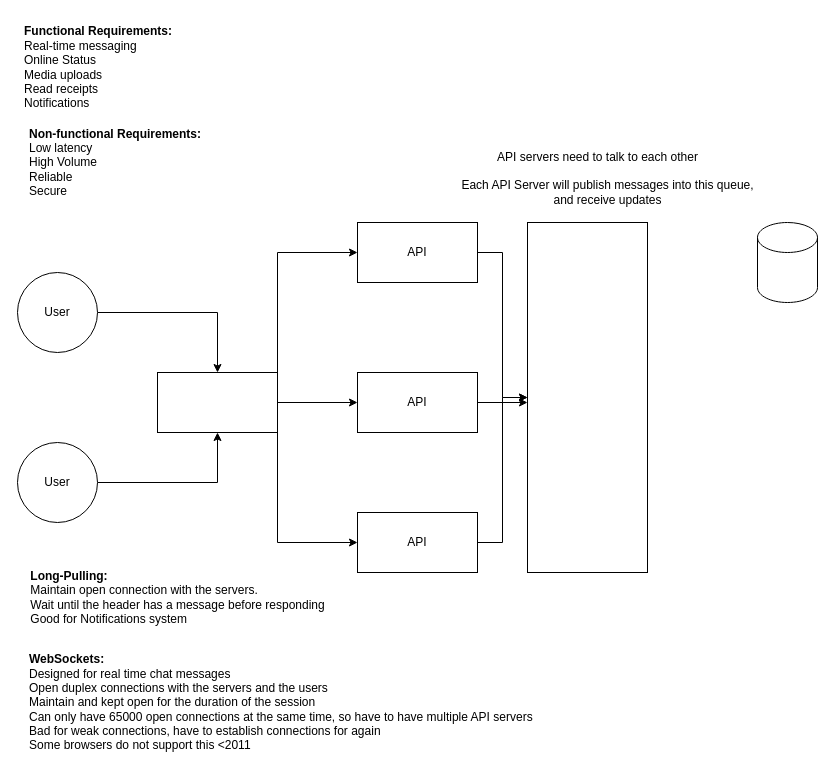
The diagram is 835 pixels wide and 774 high, and some of its shapes have lost their labels. The centre of each missing label's shape, as x and y in pixels:
"Database" belongs at [787,262].
"Load Balancer" belongs at [217,402].
"Message Services (message queue)" belongs at [587,397].
